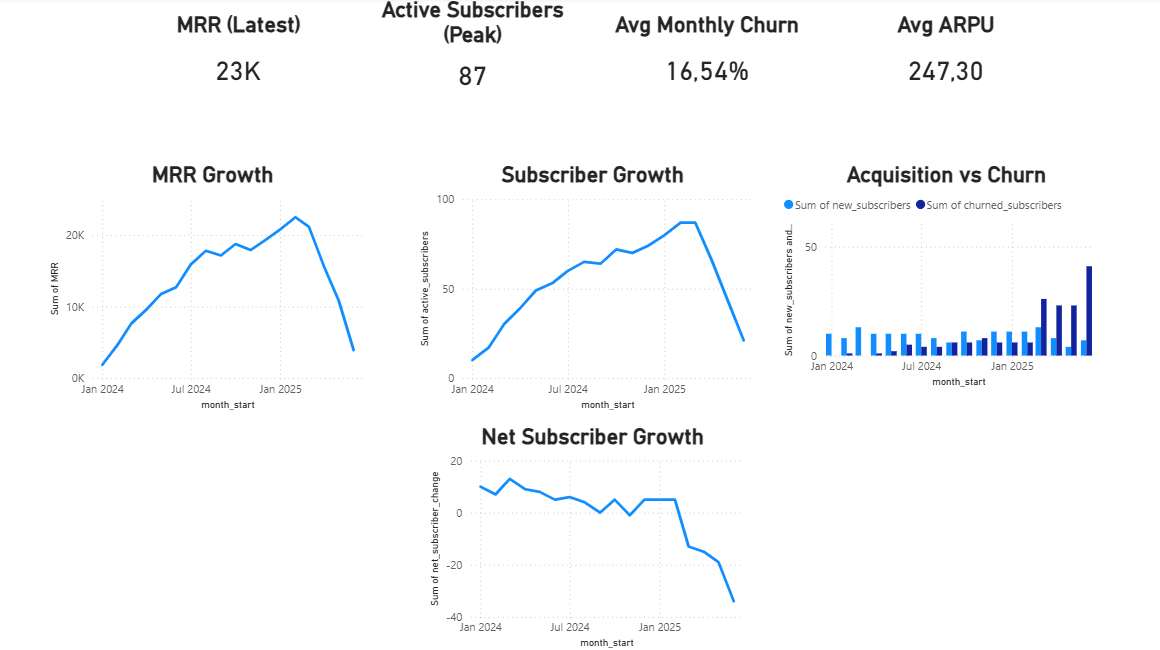

The dashboard page shown, as its layout file describes it:
{"tool":"powerbi","page":{"name":"growth overview","canvas":[1280,720],"ordinal":0},"visuals":[{"type":"card","title":"MRR (Latest)","fields":{"Values":["Max(monthly_metrics.MRR)"]},"box":[0,0,234.6,98.8],"z":0},{"type":"card","title":"Active Subscribers (Peak)","fields":{"Values":["Max(monthly_metrics.active_subscribers)"]},"box":[234.6,0,222.3,115.3],"z":1000},{"type":"card","title":"Avg Monthly Churn","fields":{"Values":["Avg(monthly_metrics.churn_rate_monthly)"]},"box":[510.5,0,234.6,98.8],"z":2000},{"type":"card","title":"Avg ARPU","fields":{"Values":["Avg(monthly_metrics.ARPU)"]},"box":[776.7,0,234.6,98.8],"z":3000},{"type":"lineChart","title":"MRR Growth","fields":{"Y":["Sum(monthly_metrics.MRR)"],"Category":["monthly_metrics.month_start"]},"box":[50.8,181.1,367.8,277.2],"z":4000},{"type":"lineChart","title":"Subscriber Growth","fields":{"Y":["Sum(monthly_metrics.active_subscribers)"],"Category":["monthly_metrics.month_start"]},"box":[456.9,181.1,389.7,277.2],"z":5000},{"type":"clusteredColumnChart","title":"Acquisition vs Churn","fields":{"Y":["Sum(monthly_metrics.new_subscribers)","Sum(monthly_metrics.churned_subscribers)"],"Category":["monthly_metrics.month_start"]},"box":[856.3,181.1,367.8,252.5],"z":6000},{"type":"lineChart","title":"Net Subscriber Growth","fields":{"Category":["monthly_metrics.month_start"],"Y":["Sum(monthly_metrics.net_subscriber_change)"]},"box":[467.9,467.9,367.8,252.5],"z":7000}]}

Visuals, with their boxes in screenshot pixels (x1, y1, x2, y2), scaled from the page's 1280x720 canvas onto the 1160x650 screenshot:
"MRR (Latest)" card: x1=0, y1=0, x2=213, y2=89
"Active Subscribers (Peak)" card: x1=213, y1=0, x2=414, y2=104
"Avg Monthly Churn" card: x1=463, y1=0, x2=675, y2=89
"Avg ARPU" card: x1=704, y1=0, x2=916, y2=89
"MRR Growth" lineChart: x1=46, y1=163, x2=379, y2=414
"Subscriber Growth" lineChart: x1=414, y1=163, x2=767, y2=414
"Acquisition vs Churn" clusteredColumnChart: x1=776, y1=163, x2=1109, y2=391
"Net Subscriber Growth" lineChart: x1=424, y1=422, x2=757, y2=649
